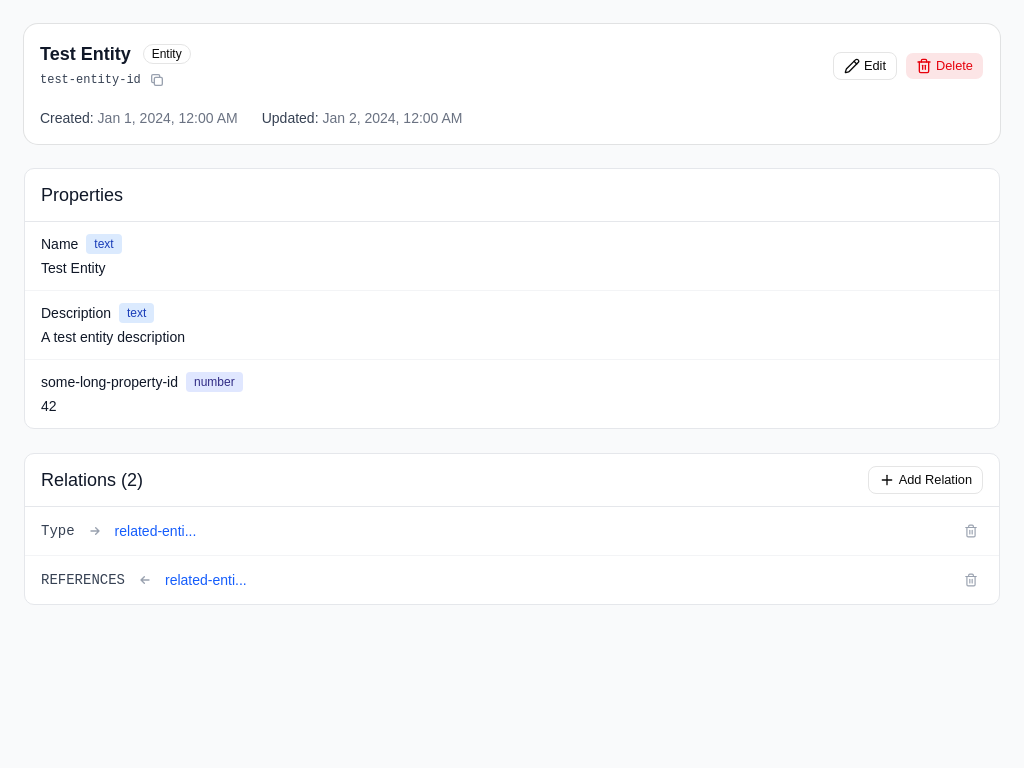
EntityPage › delete entity › opens confirmation dialog when Delete button is clicked
Click the button with test id "delete-entity-button" at {"x": 944, "y": 66}, box x1=905 y1=52 x2=984 y2=80
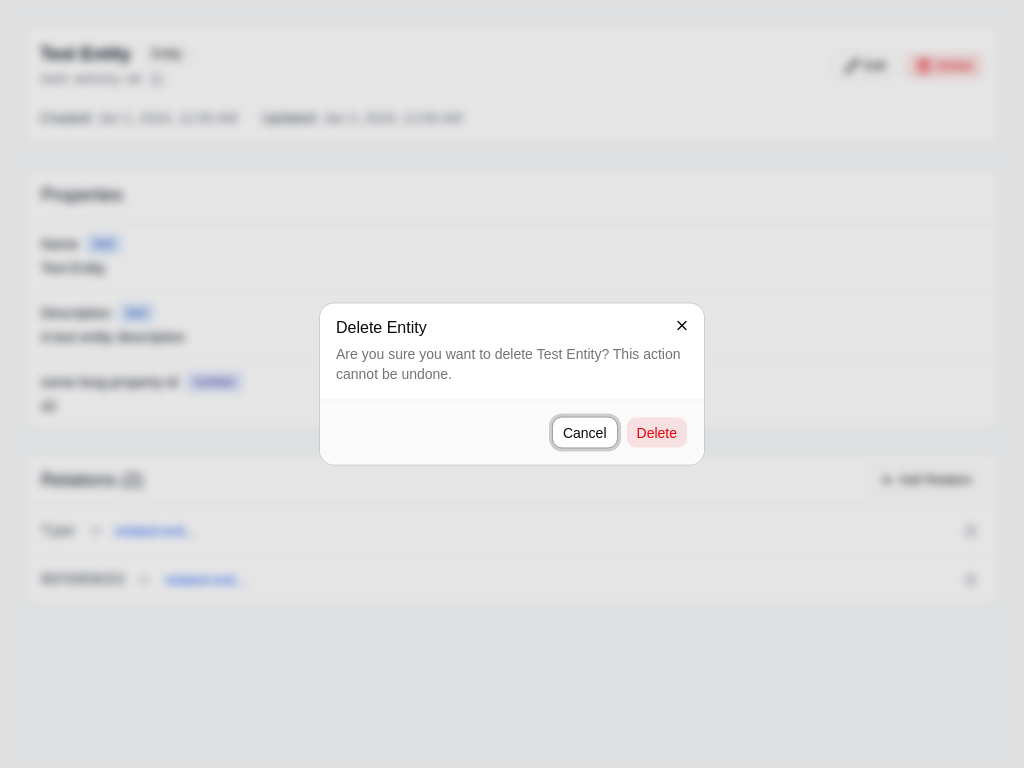
Expected: the dialog is shown, x1=320 y1=304 x2=704 y2=464
Expected: the heading "Delete Entity" is shown, x1=336 y1=318 x2=427 y2=336
Expected: the text "Are you sure you want to delete" is shown, x1=336 y1=346 x2=537 y2=362
